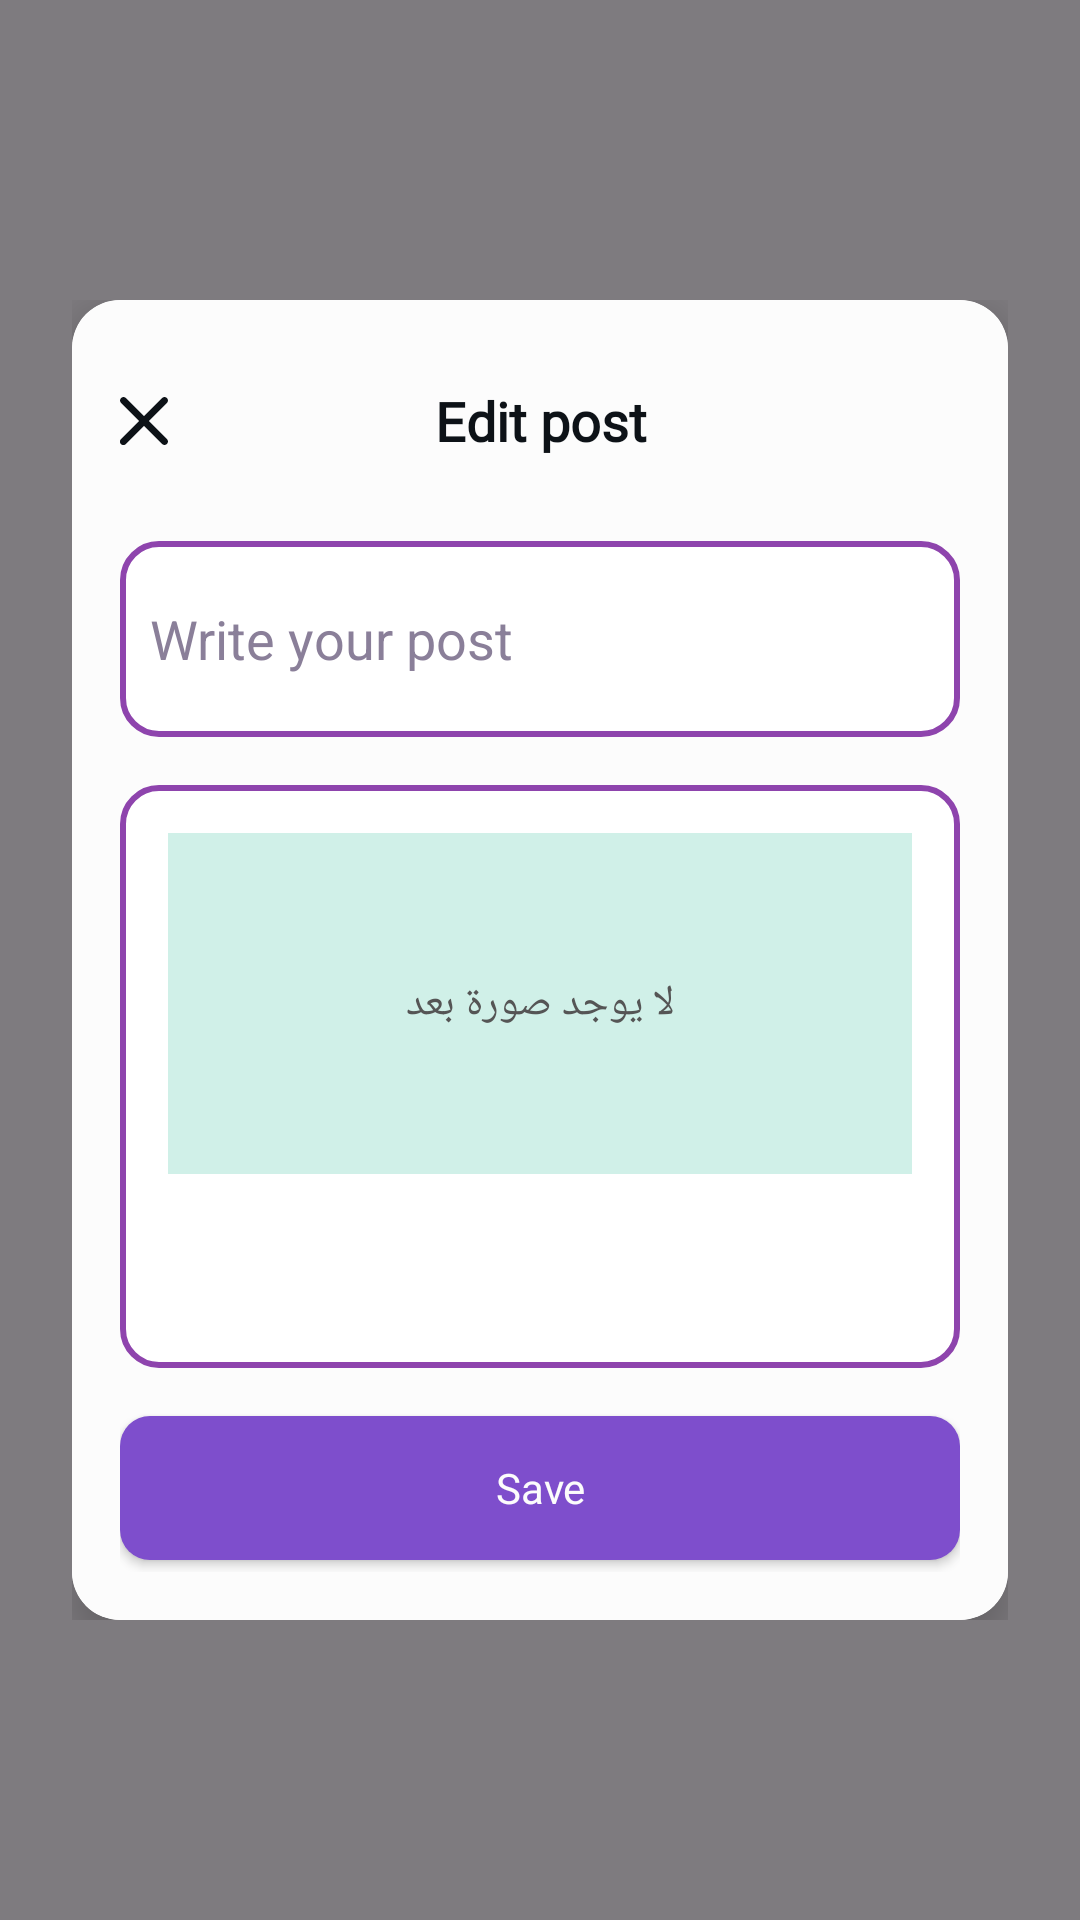

Locate icon controls on the screen. Image size 1080x1920, boxes as (x1, y1, x2, y2).
close: (120, 397, 168, 445)
